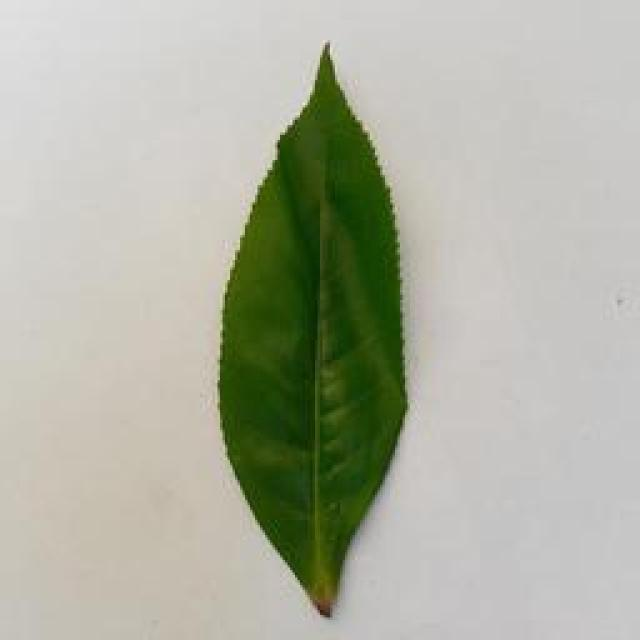Healthy: (218, 35, 418, 627)
